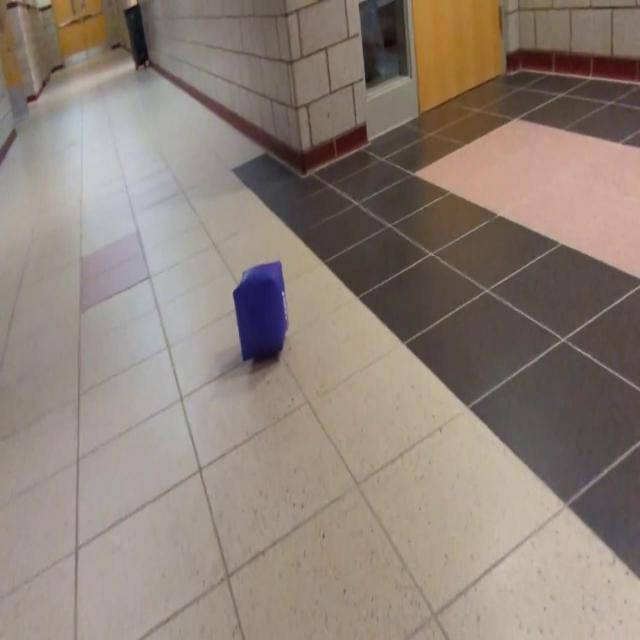frc_cube: (233, 262, 285, 363)
